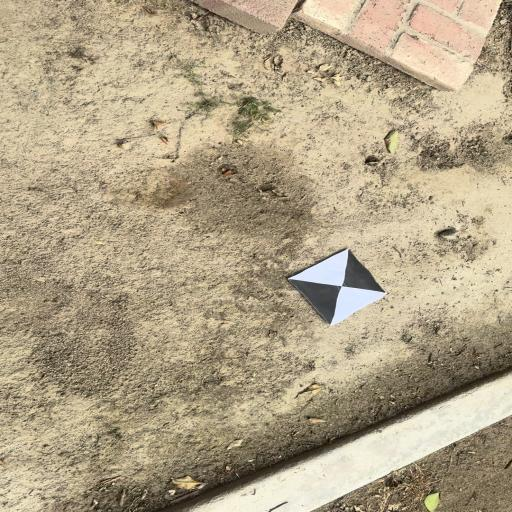target: (285, 249, 388, 326)
